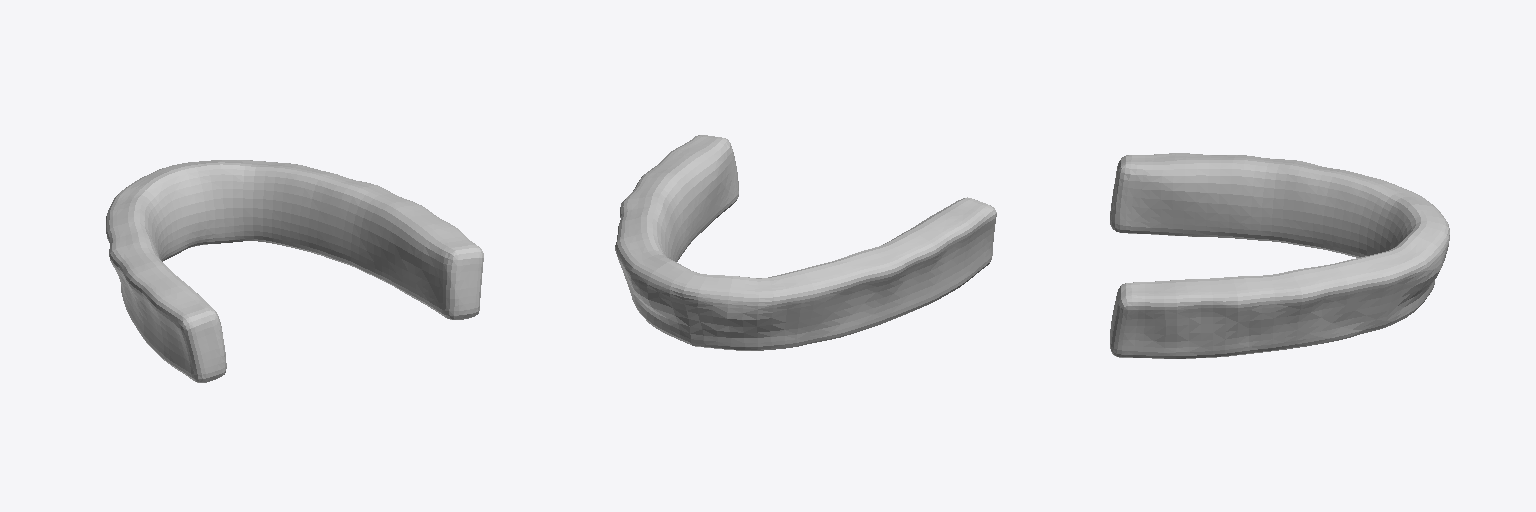
The model's file is lower_bone3.obj.
The picture shows the model from 3 angles: view 1: azimuth 30°, elevation 25°; view 2: azimuth 150°, elevation 25°; view 3: azimuth 270°, elevation 25°; orthographic projection.
Parts seen in each view (by area): view 1: lower_bone:lower_bone1; view 2: lower_bone:lower_bone1; view 3: lower_bone:lower_bone1.
Part boxes in pixels (bbox=[...]): lower_bone:lower_bone1: bbox=[106, 160, 483, 382]; lower_bone:lower_bone1: bbox=[615, 135, 996, 350]; lower_bone:lower_bone1: bbox=[1110, 153, 1449, 358].
Bounding box in the file's own units: 0.1188 × 0.0276 × 0.1152.